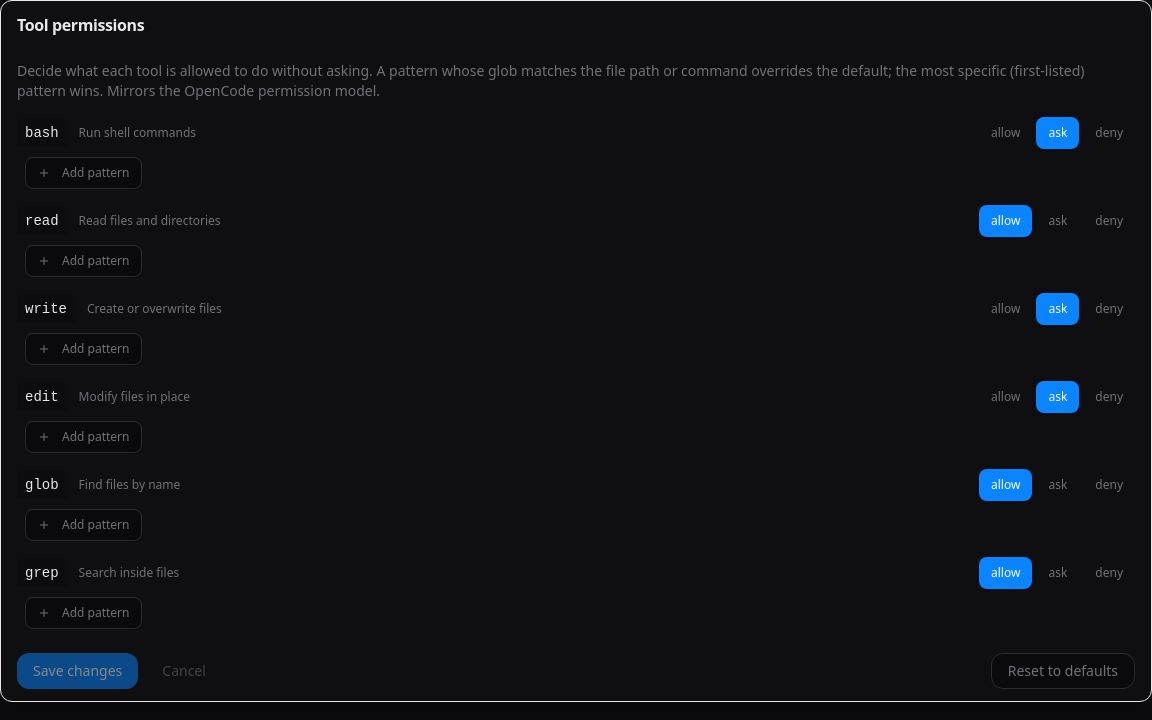
PermissionsMatrix › clicking a default button enables Save
Click the button with test id "perms-default-bash-deny" at (1109, 133), box [1083,117,1135,149]
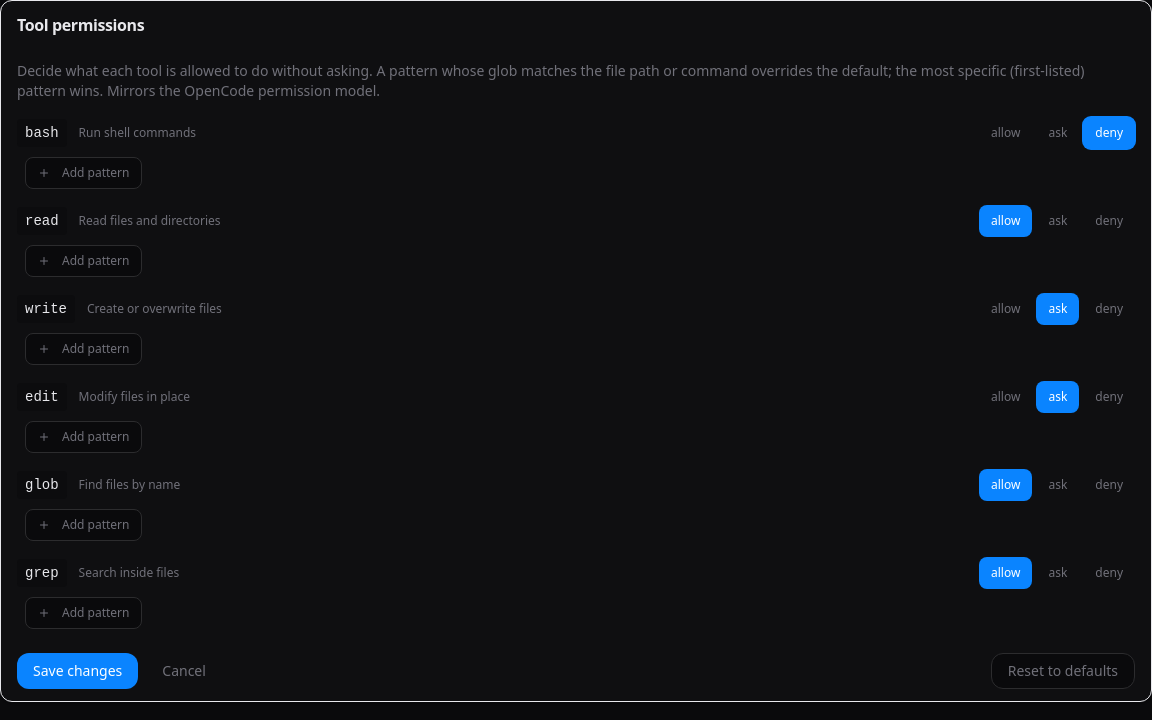
Expected: the button with test id "perms-save" is enabled, [17,653,138,689]
